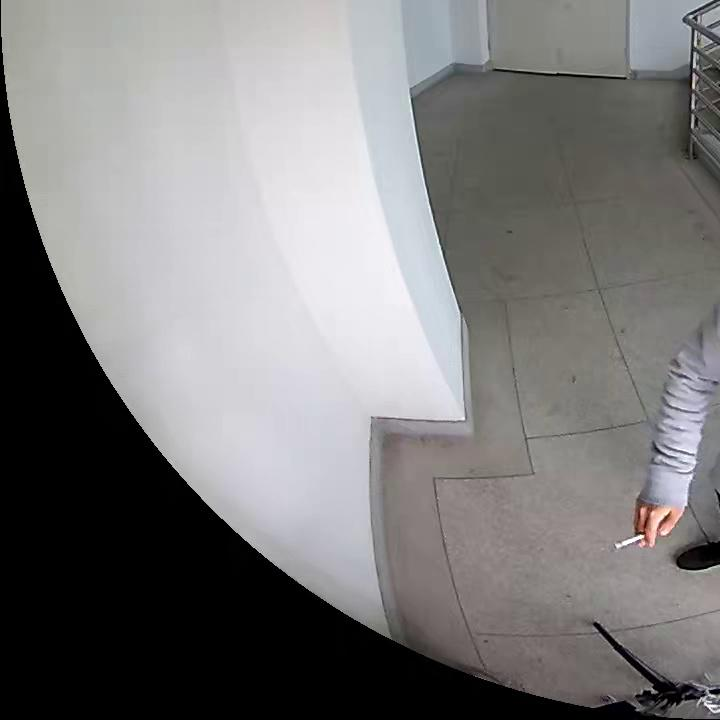handsmoke: (614, 497, 689, 551)
